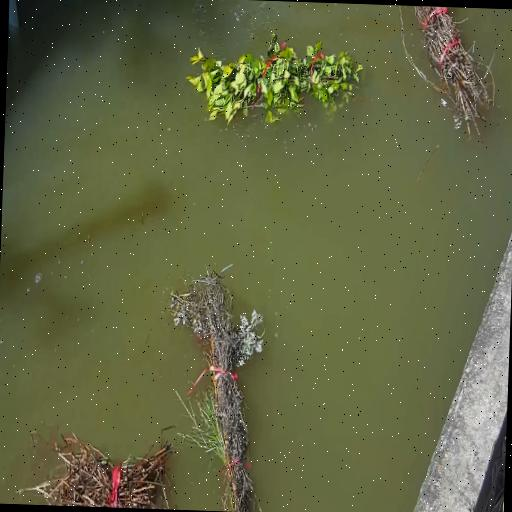twig: (165, 266, 263, 512), (187, 33, 363, 123), (401, 5, 492, 134), (25, 435, 172, 509)
